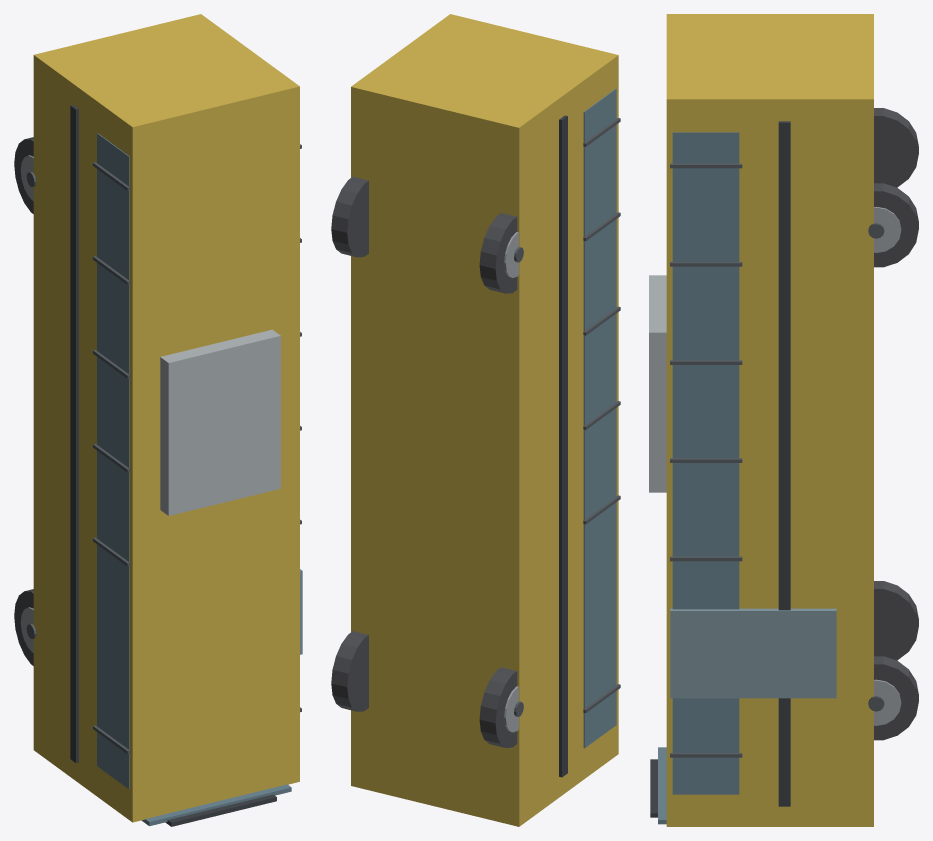
The model's file is school_bus.glb.
3 renders of one model, left to right at view 1: azimuth 30°, elevation 25°; view 2: azimuth 150°, elevation 25°; view 3: azimuth 270°, elevation 25°, orthographic. The views are drawn at different scales.
Visible parts, largest first — view 1: 0000_Bus_body, 0001_Bus_window_band, 0019_Roof_AC, 0002_School_black_stripe, 0004_Front_windshield, 0005_Destination_display, 0020_Wheel_tire, 0026_Wheel_tire; view 2: 0000_Bus_body, 0001_Bus_window_band, 0002_School_black_stripe, 0023_Wheel_tire, 0029_Wheel_tire, 0026_Wheel_tire, 0020_Wheel_tire; view 3: 0000_Bus_body, 0001_Bus_window_band, 0006_Passenger_doors, 0003_School_black_stripe, 0019_Roof_AC, 0020_Wheel_tire, 0026_Wheel_tire, 0023_Wheel_tire, 0029_Wheel_tire, 0024_Wheel_rim, 0030_Wheel_rim, 0004_Front_windshield.
Boxes of the visible parts, left/top/right/bottom form: 0000_Bus_body: left=33, top=14, right=299, bottom=822; 0001_Bus_window_band: left=97, top=133, right=129, bottom=789; 0019_Roof_AC: left=160, top=329, right=280, bottom=515; 0002_School_black_stripe: left=70, top=105, right=78, bottom=763; 0004_Front_windshield: left=141, top=784, right=291, bottom=826; 0005_Destination_display: left=165, top=794, right=276, bottom=826; 0020_Wheel_tire: left=14, top=589, right=33, bottom=665; 0026_Wheel_tire: left=14, top=137, right=33, bottom=213; 0000_Bus_body: left=351, top=14, right=618, bottom=826; 0001_Bus_window_band: left=583, top=88, right=616, bottom=748; 0002_School_black_stripe: left=559, top=115, right=567, bottom=777; 0023_Wheel_tire: left=331, top=631, right=368, bottom=711; 0029_Wheel_tire: left=331, top=176, right=368, bottom=257; 0026_Wheel_tire: left=479, top=213, right=517, bottom=293; 0020_Wheel_tire: left=479, top=667, right=517, bottom=747; 0000_Bus_body: left=666, top=14, right=873, bottom=826; 0001_Bus_window_band: left=672, top=132, right=739, bottom=794; 0006_Passenger_doors: left=670, top=608, right=836, bottom=698; 0003_School_black_stripe: left=778, top=121, right=790, bottom=806; 0019_Roof_AC: left=649, top=275, right=666, bottom=492; 0020_Wheel_tire: left=874, top=581, right=918, bottom=660; 0026_Wheel_tire: left=874, top=108, right=918, bottom=187; 0023_Wheel_tire: left=874, top=656, right=918, bottom=740; 0029_Wheel_tire: left=874, top=183, right=918, bottom=267; 0024_Wheel_rim: left=874, top=679, right=901, bottom=725; 0030_Wheel_rim: left=874, top=206, right=901, bottom=252; 0004_Front_windshield: left=658, top=747, right=666, bottom=824.
Size of the model in its own units: 2.64 by 10.09 by 3.36.
